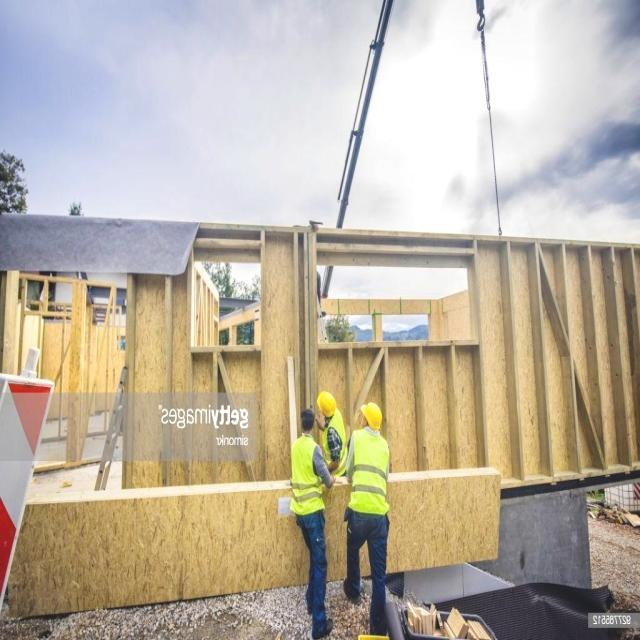head_helmet: (358, 404, 386, 426), (317, 391, 337, 416)
person: (346, 403, 390, 615), (290, 409, 321, 627), (320, 386, 346, 465)
shoes: (341, 572, 364, 606), (309, 617, 336, 640)
vest: (351, 434, 390, 511), (286, 440, 320, 516), (322, 418, 346, 480)
